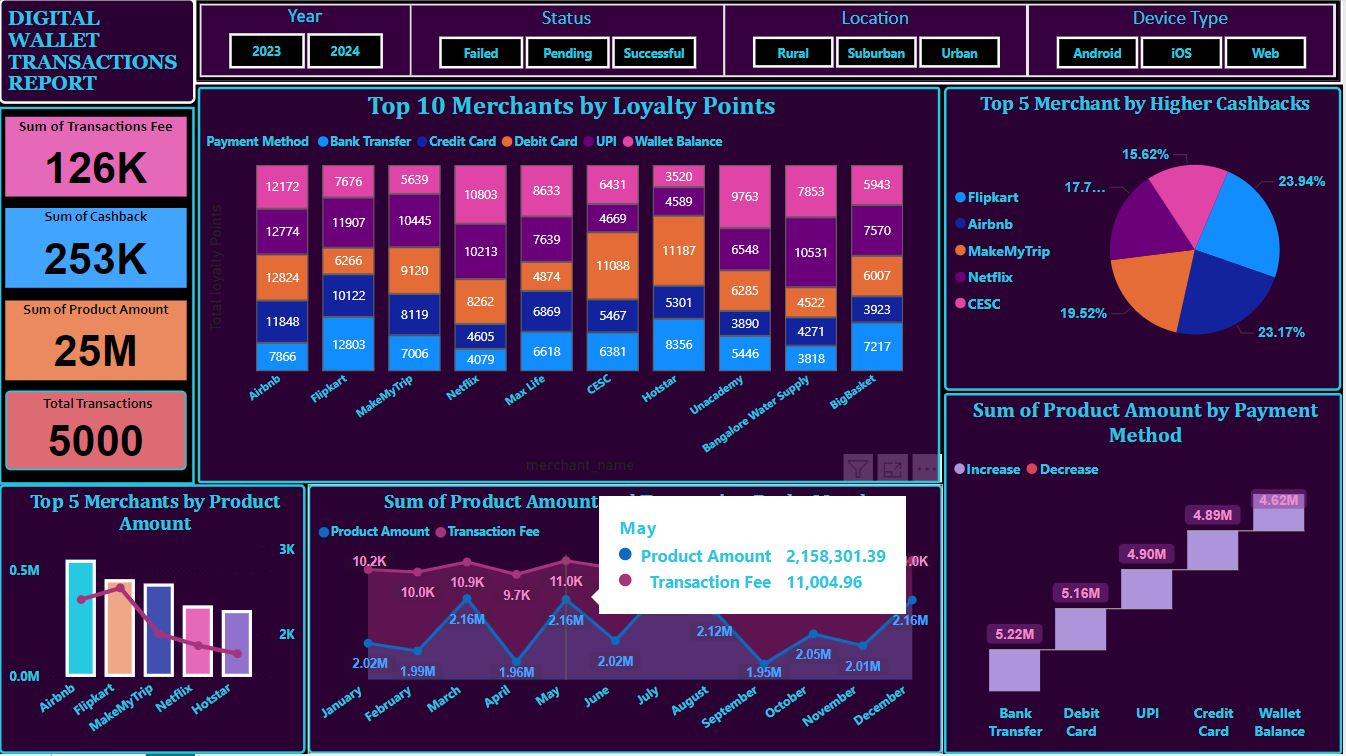

The dashboard page shown, as its layout file describes it:
{"tool":"powerbi","page":{"name":"Page 1","canvas":[1280,720],"ordinal":0},"visuals":[{"type":"shape","box":[0,103.3,186.2,360.2],"z":0},{"type":"shape","box":[185.8,0,1094.2,82],"z":1000},{"type":"slicer","title":"Year","fields":{"Values":["digital_wallet_transactions.transaction_date.Variation.Date Hierarchy.Year"]},"box":[192.9,7.1,198,66.7],"z":2000},{"type":"card","title":"Sum of Transactions Fee","fields":{"Values":["Sum(digital_wallet_transactions.transaction_fee)"]},"box":[6,113.1,172.6,76.2],"z":3000},{"type":"textbox","box":[0,0,187,101],"z":4000},{"type":"card","title":"Sum of Cashback","fields":{"Values":["Sum(digital_wallet_transactions.cashback)"]},"box":[5.4,199.8,172.6,76.1],"z":5000},{"type":"card","title":"Sum of Product Amount","fields":{"Values":["Sum(digital_wallet_transactions.product_amount)"]},"box":[5.4,288.1,172.6,76.1],"z":6000},{"type":"slicer","title":"Device Type","fields":{"Values":["digital_wallet_transactions.device_type"]},"box":[981,7.1,289.3,66.7],"z":7000},{"type":"slicer","title":"Location","fields":{"Values":["digital_wallet_transactions.location"]},"box":[691.8,6.8,286.8,66.6],"z":8000},{"type":"slicer","title":"Status","fields":{"Values":["digital_wallet_transactions.transaction_status"]},"box":[392.9,7.1,296.4,66.7],"z":9000},{"type":"lineStackedColumnComboChart","title":"Top 5 Merchants by Product Amount","fields":{"Category":["digital_wallet_transactions.merchant_name"],"Y":["Sum(digital_wallet_transactions.product_amount)"],"Y2":["Sum(digital_wallet_transactions.transaction_fee)"]},"box":[0,463.5,292.2,256.9],"z":10000},{"type":"lineChart","title":"Sum of Product Amount and Transaction Fee by Month","fields":{"Category":["digital_wallet_transactions.transaction_date.Variation.Date Hierarchy.Month"],"Y":["Sum(digital_wallet_transactions.product_amount)"],"Y2":["Sum(digital_wallet_transactions.transaction_fee)"]},"box":[293.6,463.1,605,256.9],"z":11000},{"type":"card","title":"Total Transactions","fields":{"Values":["Count(digital_wallet_transactions.transaction_id)"]},"box":[5.4,373.8,172.6,76.1],"z":12000},{"type":"pieChart","title":"Top 5 Merchant by Higher Cashbacks","fields":{"Category":["digital_wallet_transactions.merchant_name"],"Y":["Sum(digital_wallet_transactions.cashback)"]},"box":[899.7,84.3,378,289.5],"z":13000},{"type":"hundredPercentStackedColumnChart","title":"Top 10 Merchants by Loyalty Points","fields":{"Category":["digital_wallet_transactions.merchant_name"],"Y":["Sum(digital_wallet_transactions.loyalty_points)"],"Series":["digital_wallet_transactions.payment_method"]},"box":[188.9,84.3,707,377.8],"z":14000},{"type":"waterfallChart","title":"Sum of Product Amount by Payment Method","fields":{"Category":["digital_wallet_transactions.payment_method"],"Y":["Sum(digital_wallet_transactions.product_amount)"]},"box":[899.7,376.1,379.2,343.9],"z":15000}]}

Visuals, with their boxes in screenshot pixels (x1, y1, x2, y2), scaled from the page's 1280x720 canvas onto the 1346x756 screenshot:
shape: Rect(0, 108, 196, 487)
shape: Rect(195, 0, 1345, 86)
"Year" slicer: Rect(203, 7, 411, 77)
"Sum of Transactions Fee" card: Rect(6, 119, 188, 199)
textbox: Rect(0, 0, 197, 106)
"Sum of Cashback" card: Rect(6, 210, 187, 290)
"Sum of Product Amount" card: Rect(6, 303, 187, 382)
"Device Type" slicer: Rect(1032, 7, 1336, 77)
"Location" slicer: Rect(727, 7, 1029, 77)
"Status" slicer: Rect(413, 7, 725, 77)
"Top 5 Merchants by Product Amount" lineStackedColumnComboChart: Rect(0, 487, 307, 755)
"Sum of Product Amount and Transaction Fee by Month" lineChart: Rect(309, 486, 945, 755)
"Total Transactions" card: Rect(6, 392, 187, 472)
"Top 5 Merchant by Higher Cashbacks" pieChart: Rect(946, 89, 1344, 392)
"Top 10 Merchants by Loyalty Points" hundredPercentStackedColumnChart: Rect(199, 89, 942, 485)
"Sum of Product Amount by Payment Method" waterfallChart: Rect(946, 395, 1345, 755)
